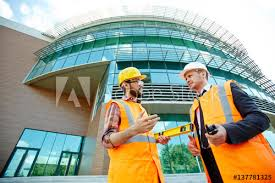Person_wearing_helmet: (174, 55, 211, 78), (112, 62, 149, 83)
